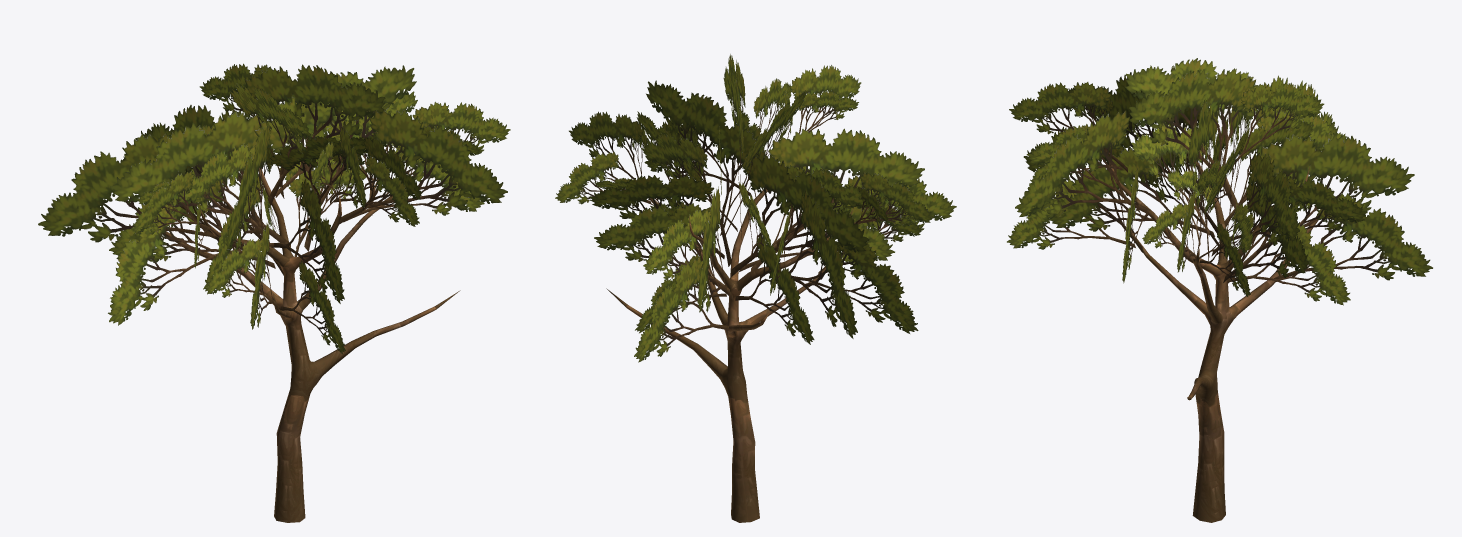
File: tree.FBX
3 views of the same model, side by side, from view 1: azimuth 30°, elevation 25°; view 2: azimuth 150°, elevation 25°; view 3: azimuth 270°, elevation 25° (orthographic). The views are drawn at different scales.
Visible parts, largest first — view 1: tree; view 2: tree; view 3: tree.
Boxes of the visible parts, box(x1,y1,x2,y2) form: tree: box(38, 63, 510, 522); tree: box(555, 54, 956, 522); tree: box(1007, 58, 1432, 522).
Size of the model in its own units: 97.77 by 111 by 92.73.
